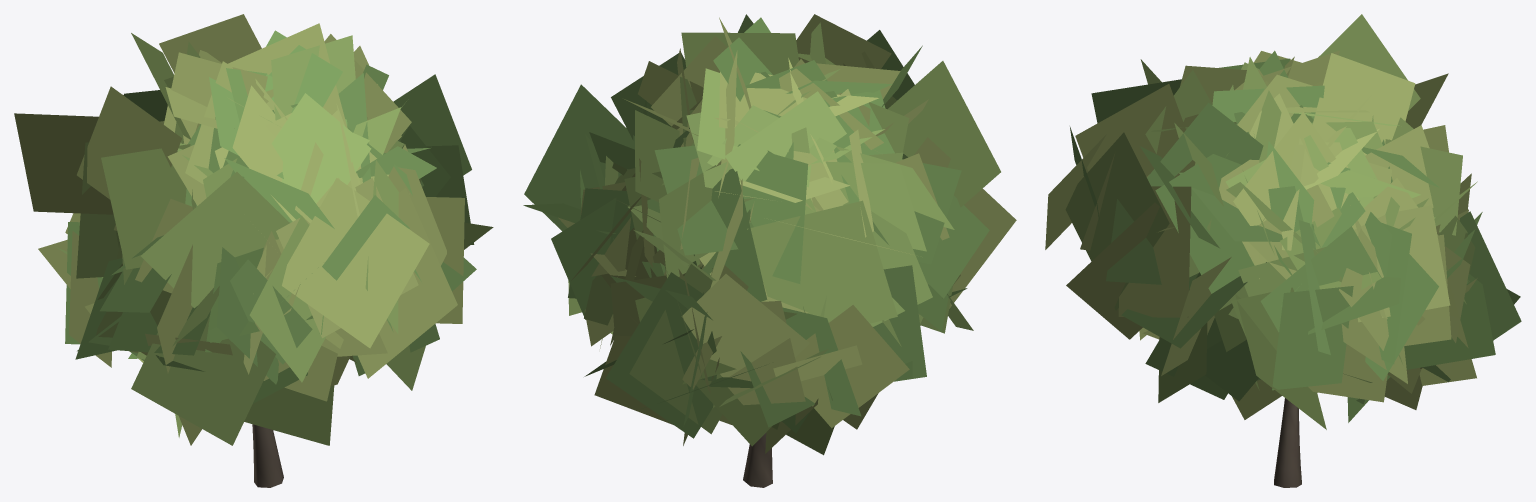
Rendered from maple_lod1.glb.
The picture shows the model from 3 angles, left to right: view 1: azimuth 30°, elevation 25°; view 2: azimuth 150°, elevation 25°; view 3: azimuth 270°, elevation 25°; orthographic projection. The views are drawn at different scales.
Visible parts, largest first — view 1: maple_lod1; view 2: maple_lod1; view 3: maple_lod1.
Boxes of the visible parts, left/top/right/bottom form: maple_lod1: left=14, top=14, right=493, bottom=487; maple_lod1: left=523, top=14, right=1016, bottom=487; maple_lod1: left=1045, top=14, right=1521, bottom=487.
Bounding box in the file's own units: 0.9773 × 1 × 1.
